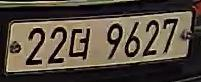2: (24, 26, 47, 67), (48, 25, 69, 65), (142, 18, 159, 57)
6: (123, 20, 143, 61)
7: (160, 17, 181, 54)
9: (104, 20, 124, 62)
더: (68, 23, 92, 62)
